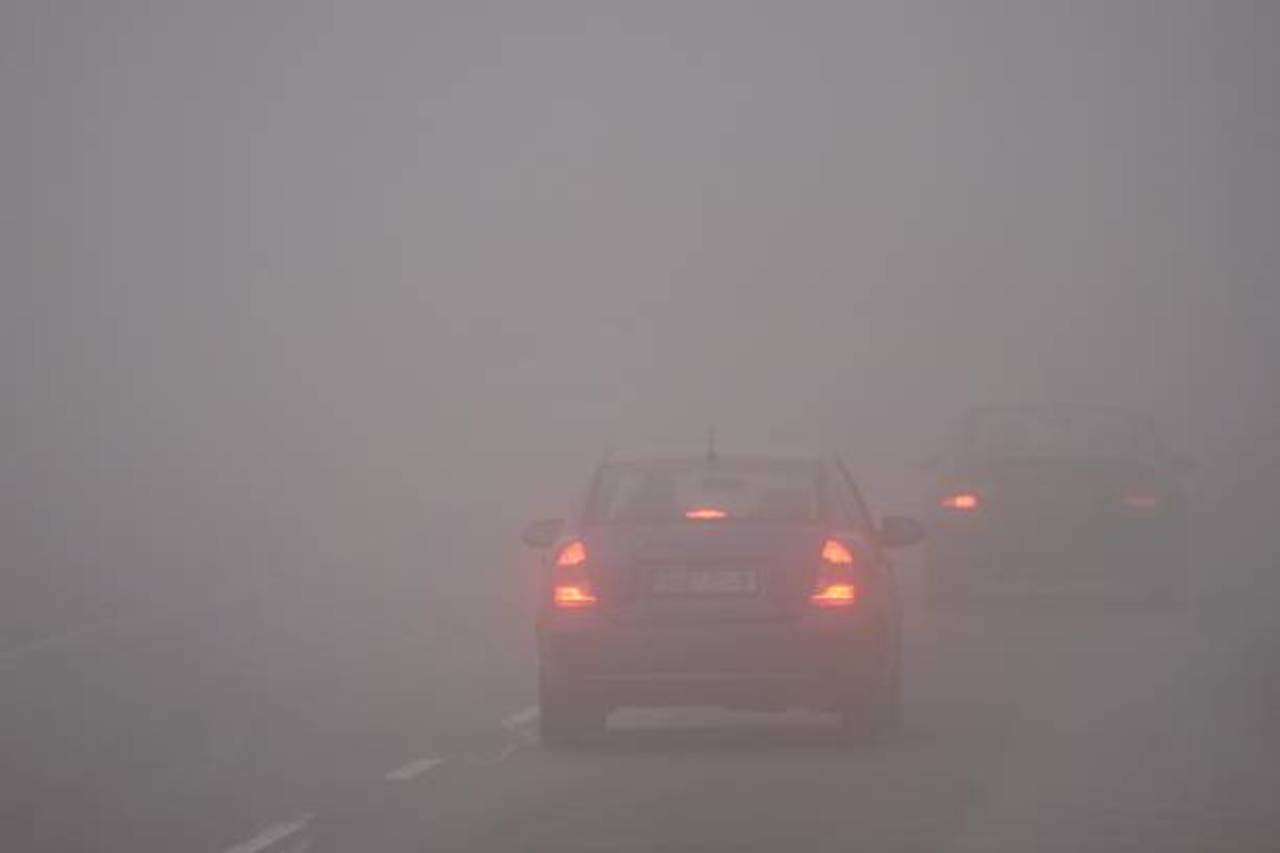car: (524, 440, 918, 745), (926, 400, 1199, 605)
